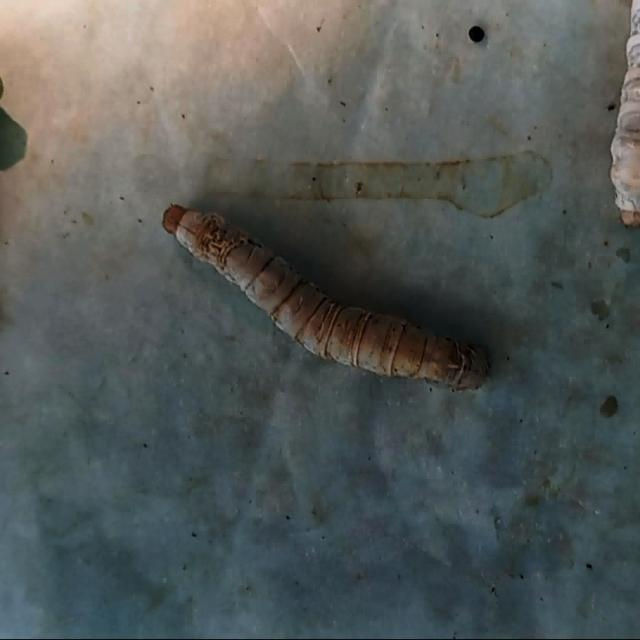Grasserie: (151, 185, 498, 408)
